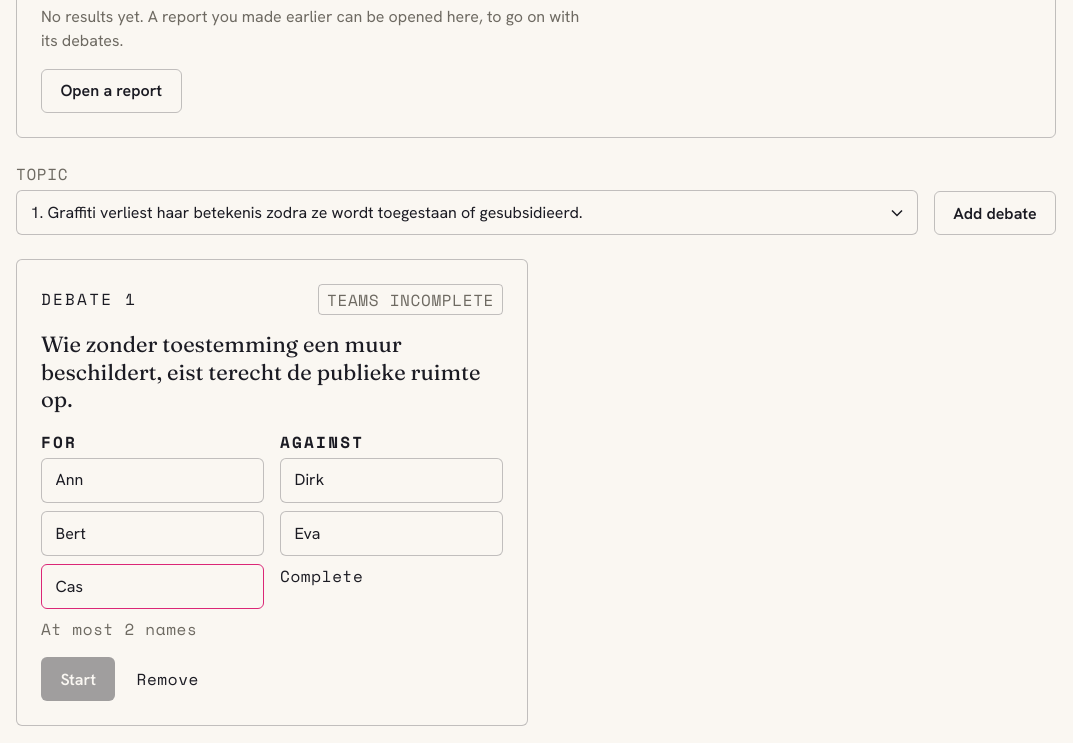
Test case: the debates › shows names left beyond a smaller team, and lets them be cleared
The image size is (1073, 743).
(page scrolled)
Expected: the button "Start" is disabled, top-left (41, 657), bottom-right (116, 701)
Clear the 5th field named "Name 3" at (152, 587), box top-left (41, 564), bottom-right (264, 609)
(page scrolled)
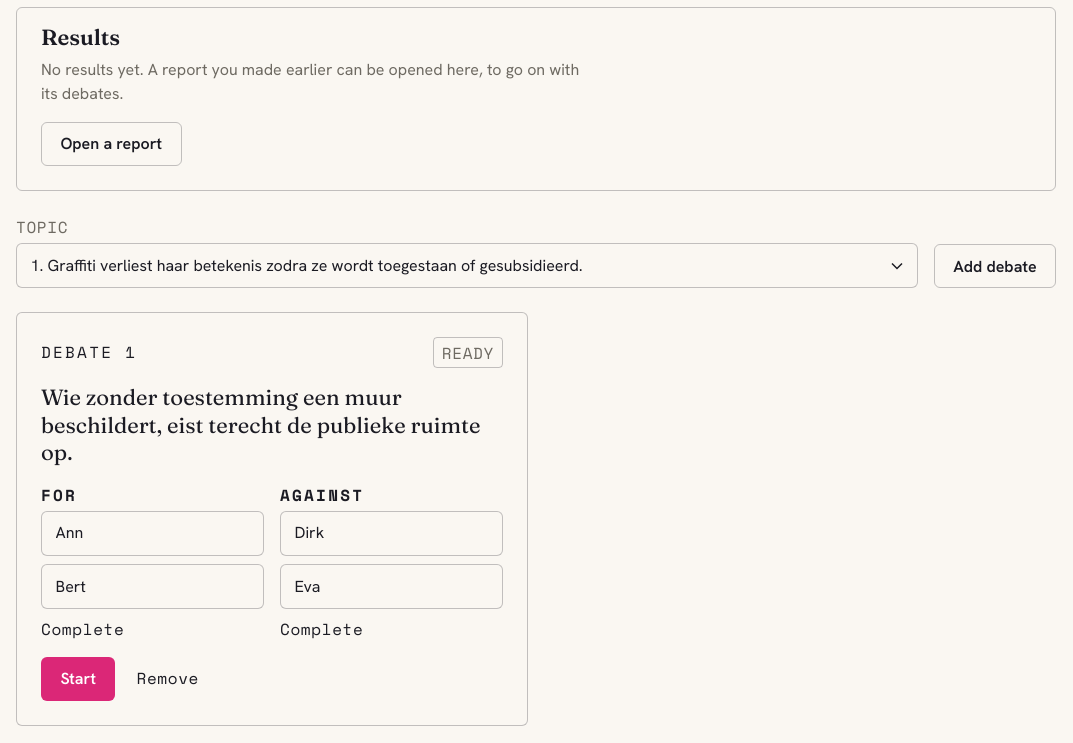
Now the button "Start" is enabled, box top-left (41, 657), bottom-right (116, 701)
